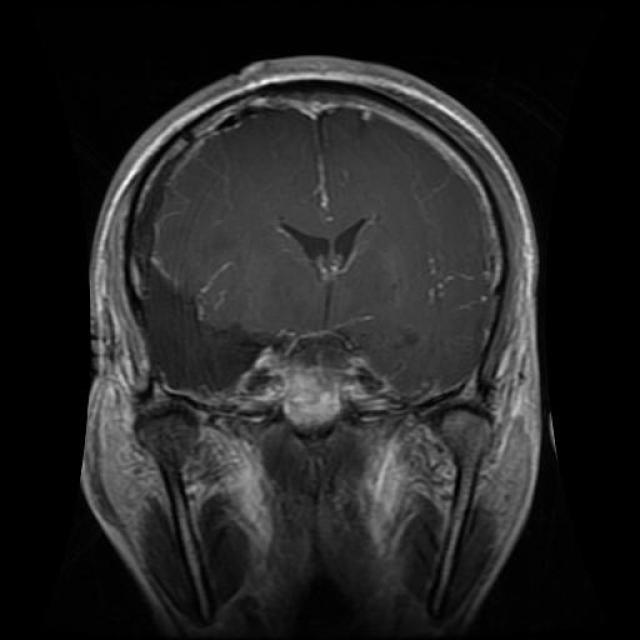glioma: (282, 205, 372, 281)
